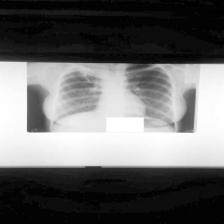tuberculosis: (46, 63, 182, 134)
